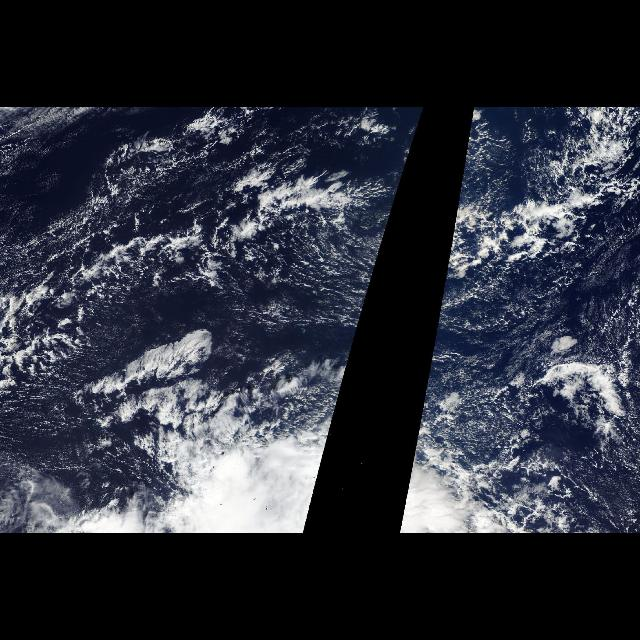Fish: (1, 160, 410, 384), (424, 160, 638, 382)
Sugar: (430, 268, 610, 358), (250, 268, 376, 358)
